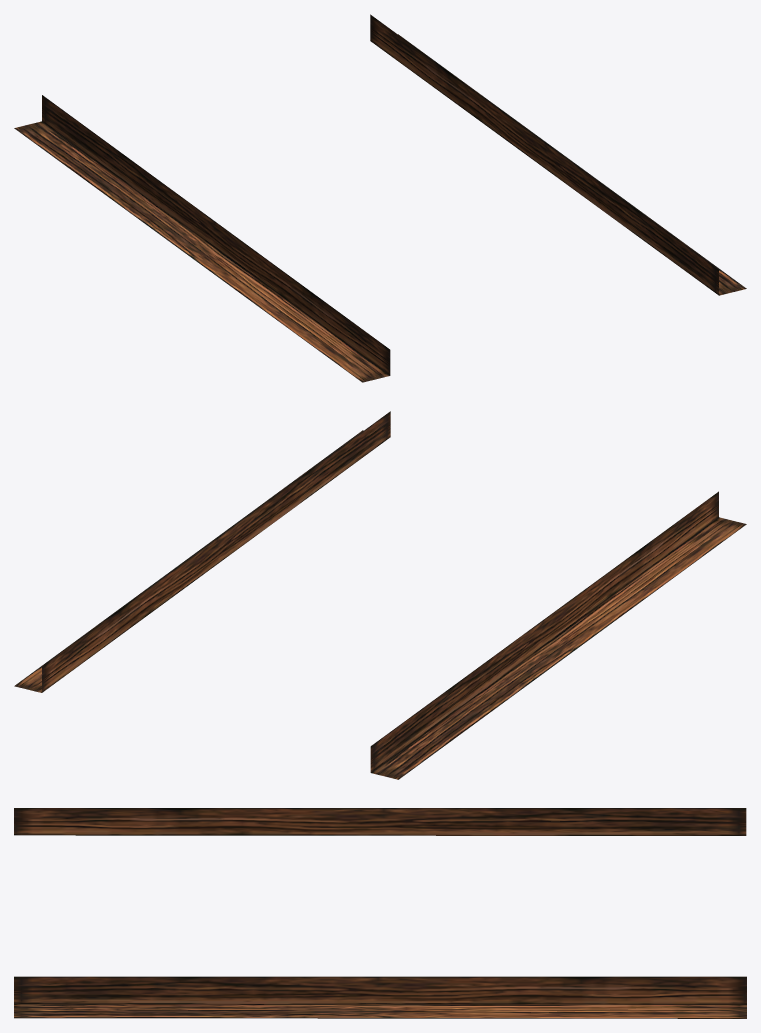
File: LAKETOWN_WAREHOUSE2_PS_WH2_BEAMS_373757.fbx
3 views of the same model, one above another, from view 1: azimuth 30°, elevation 25°; view 2: azimuth 150°, elevation 25°; view 3: azimuth 270°, elevation 25° (orthographic). The views are drawn at different scales.
Visible parts, largest first — view 1: LAKETOWN_WAREHOUSE2_PS_WH2_BEAMS_373757; view 2: LAKETOWN_WAREHOUSE2_PS_WH2_BEAMS_373757; view 3: LAKETOWN_WAREHOUSE2_PS_WH2_BEAMS_373757.
Boxes of the visible parts, box(x1,y1,x2,y2) form: LAKETOWN_WAREHOUSE2_PS_WH2_BEAMS_373757: box(14, 14, 746, 382); LAKETOWN_WAREHOUSE2_PS_WH2_BEAMS_373757: box(14, 411, 746, 779); LAKETOWN_WAREHOUSE2_PS_WH2_BEAMS_373757: box(14, 808, 746, 1018).
Size of the model in its own units: 23858 by 1585 by 37496.
1 material, 1 textured.
